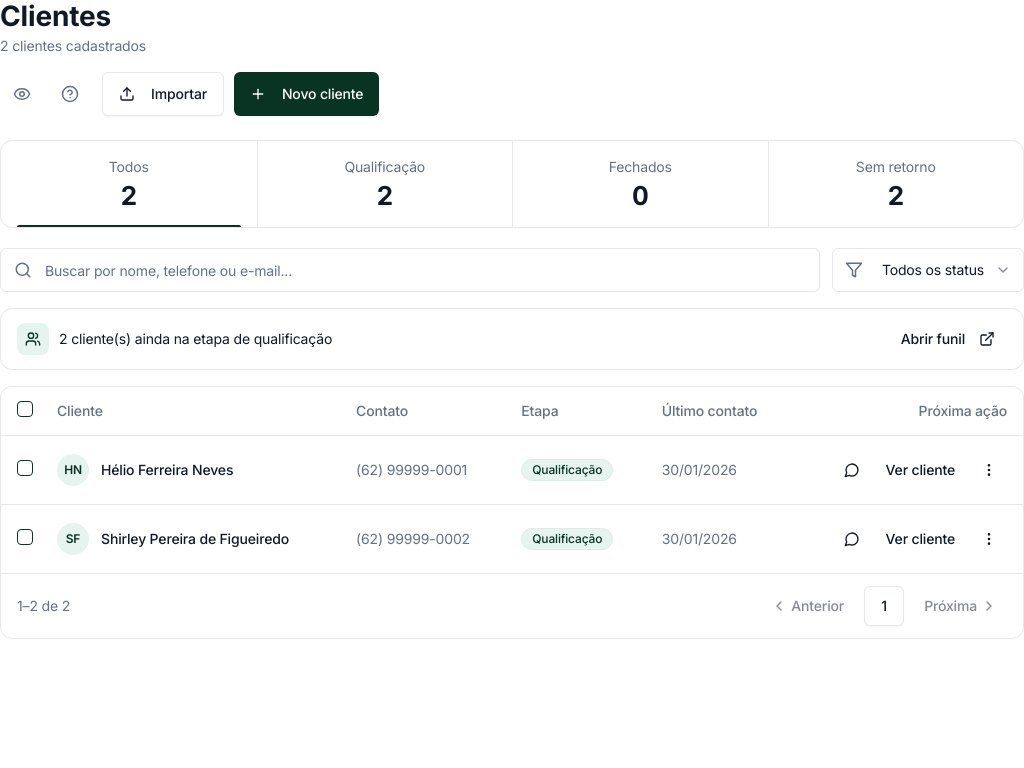
it: diz quem tem contrato, pelo nome, e não deixa excluir enquanto estiver marcado
Step 1. Click the checkbox named "Selecionar Hélio Ferreira Neves" → (25,468), box [17, 460, 33, 476]
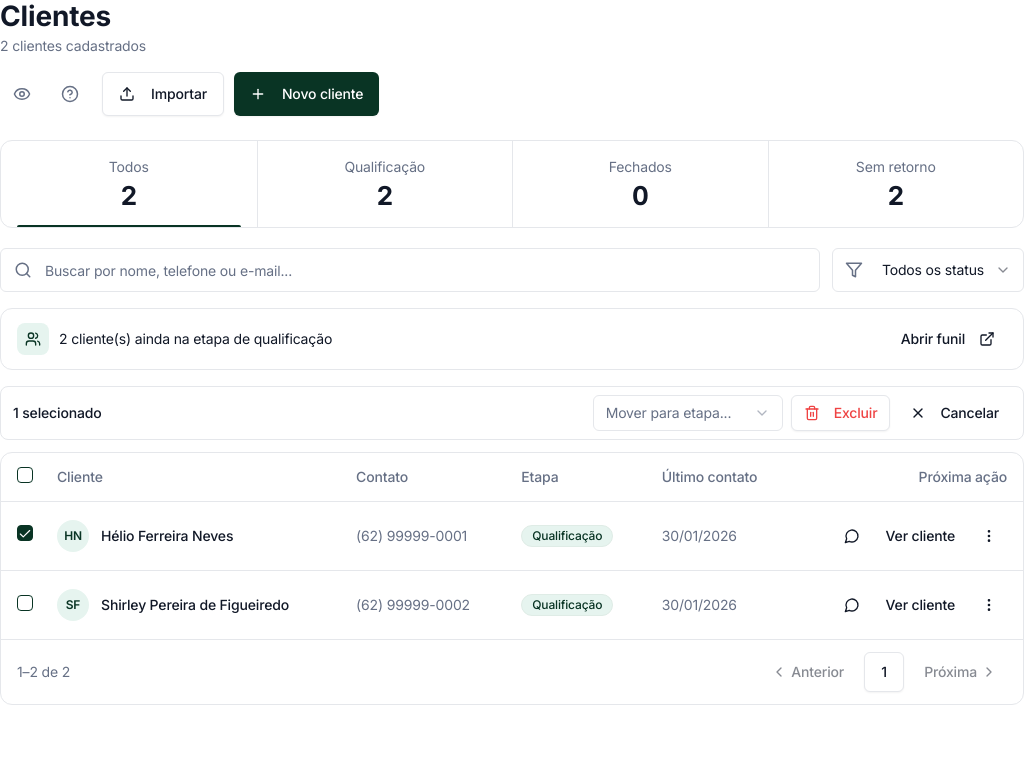
Step 2. Click the button "Excluir" → (840,413), box [791, 395, 890, 431]
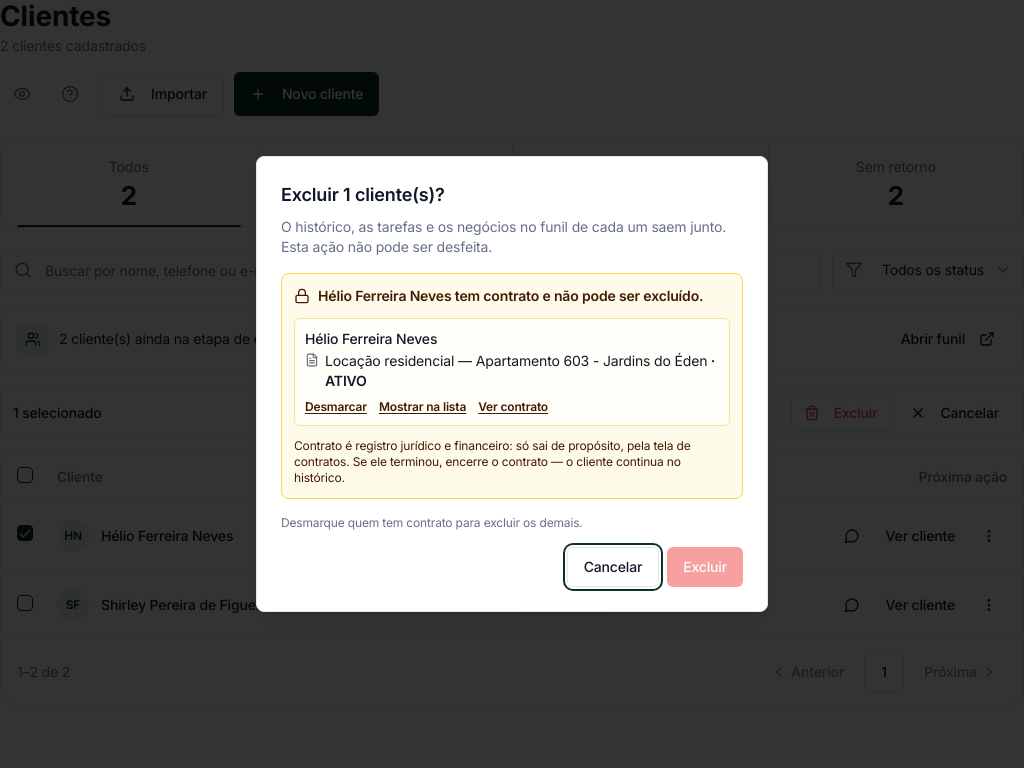
Check: the message with test id "contratos-em-risco" shows "Hélio Ferreira Neves tem contrato e não pode ser excluído", box [318, 287, 703, 304]
Check: the message with test id "contratos-em-risco" shows "Locação residencial", box [325, 352, 454, 369]
Check: the message with test id "contratos-em-risco" shows "Apartamento 603 - Jardins do Éden", box [476, 352, 707, 369]
